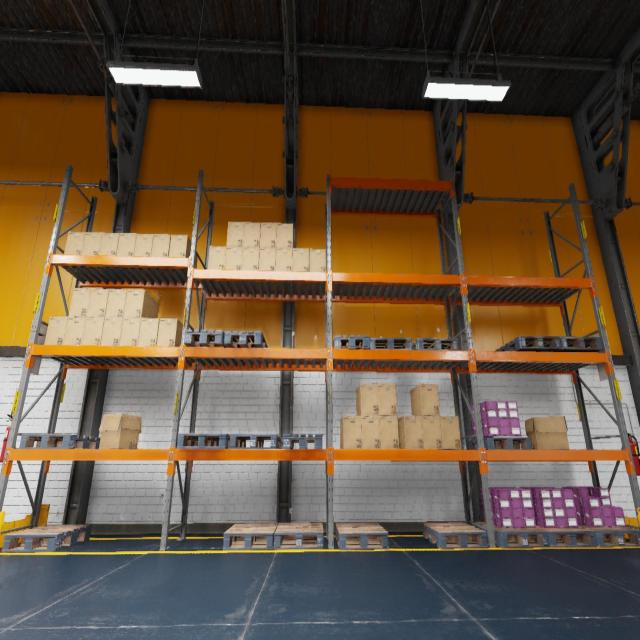box: (525, 416, 569, 449), (99, 414, 141, 448), (123, 289, 159, 318), (168, 234, 198, 268), (410, 384, 440, 416), (398, 416, 424, 448), (156, 318, 183, 346), (356, 384, 379, 416), (340, 416, 362, 448), (440, 416, 461, 449), (309, 248, 326, 288), (44, 316, 68, 344), (422, 416, 442, 449), (82, 317, 105, 345), (63, 317, 86, 345), (68, 288, 91, 316), (361, 416, 381, 448), (380, 416, 399, 449), (100, 318, 123, 345), (119, 318, 141, 346), (105, 289, 127, 317), (87, 289, 109, 317), (378, 384, 397, 416), (138, 318, 159, 346), (116, 233, 137, 256), (81, 232, 102, 255), (226, 221, 244, 247), (64, 232, 85, 254), (151, 234, 171, 257), (99, 232, 119, 255), (276, 223, 294, 248), (134, 233, 153, 256), (243, 222, 260, 247), (242, 247, 260, 270), (208, 246, 226, 269), (292, 248, 309, 272), (260, 222, 276, 247), (259, 247, 276, 270), (225, 247, 242, 270), (276, 248, 292, 271)
pallets: (2, 524, 92, 552), (475, 522, 549, 548), (422, 522, 488, 549), (223, 523, 278, 550), (335, 523, 389, 550), (578, 524, 640, 547), (534, 526, 597, 548), (274, 523, 323, 549), (19, 434, 100, 448), (495, 336, 561, 352), (177, 433, 230, 449), (548, 337, 602, 352), (466, 438, 532, 450), (230, 434, 282, 448), (224, 331, 268, 347), (184, 329, 225, 346), (282, 433, 322, 449), (412, 338, 459, 350), (333, 335, 370, 349), (370, 338, 412, 350)
